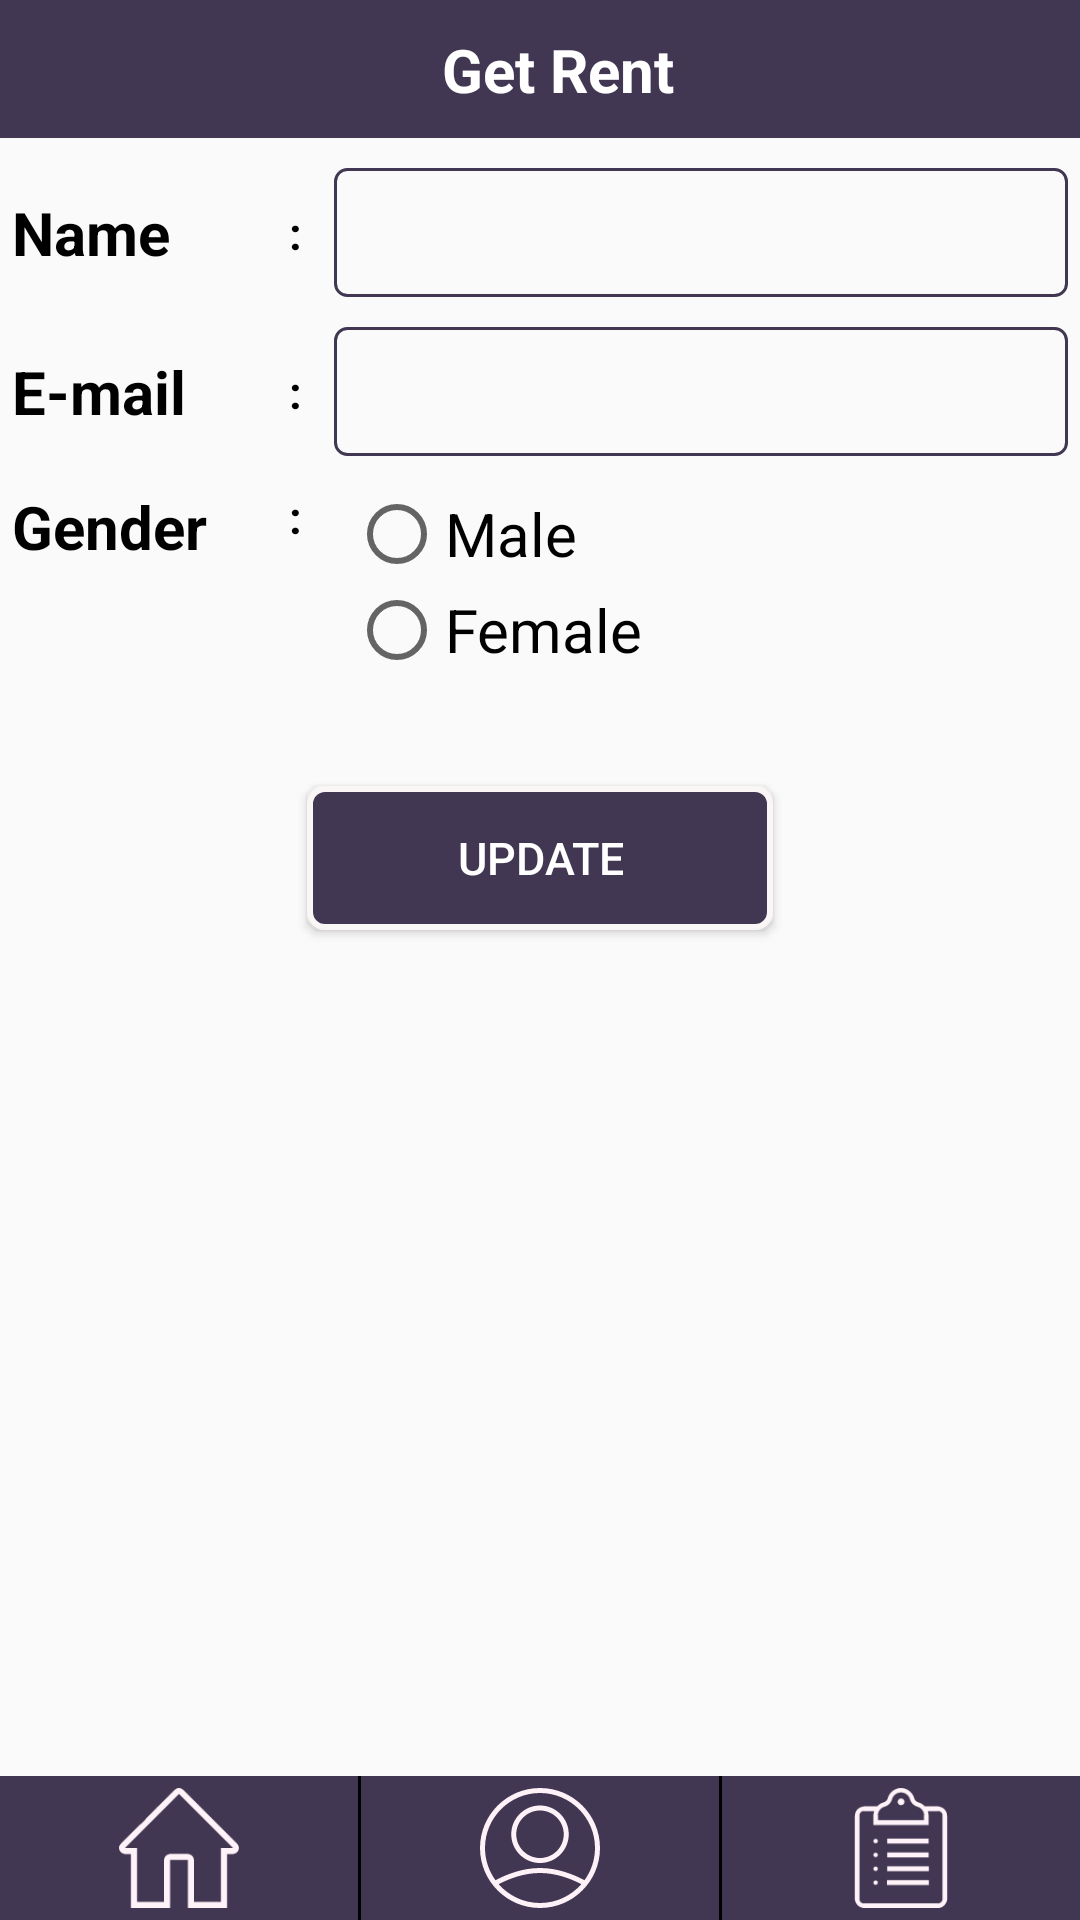

Icon click points for this 1080 x 1920 phone screenshot, format (x=x, y=y):
home: (x=179, y=1848)
post: (x=901, y=1848)
profile: (x=540, y=1848)
